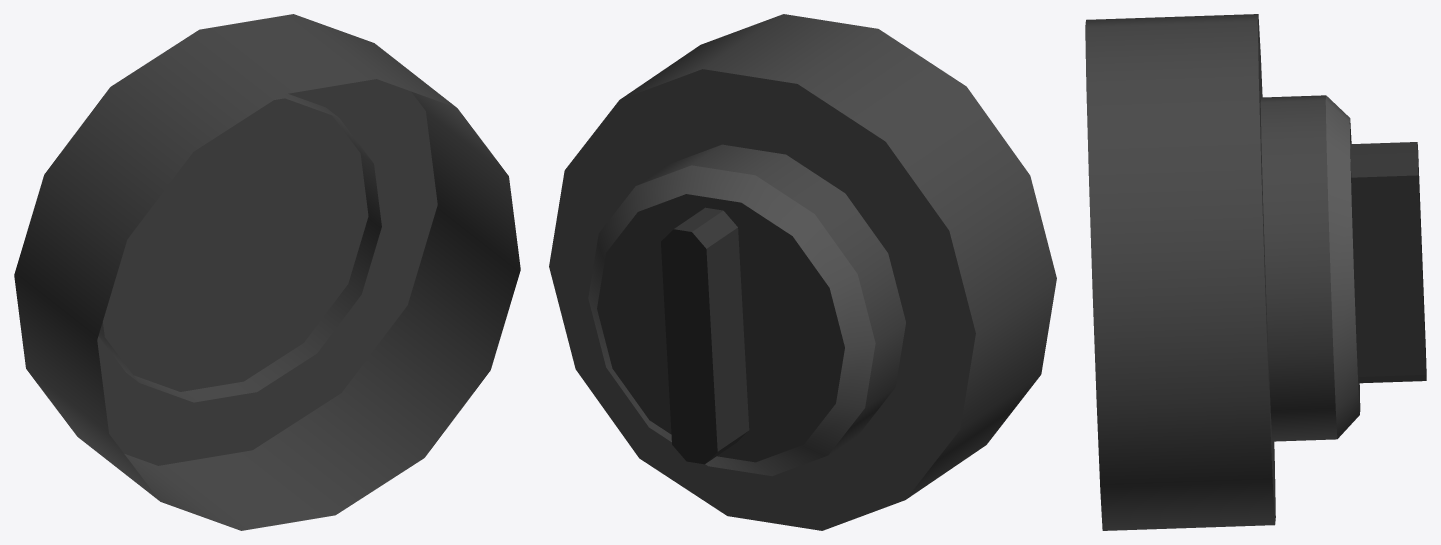
File: Stove Dial.fbx
3 views of the same model, side by side, from view 1: azimuth 30°, elevation 25°; view 2: azimuth 150°, elevation 25°; view 3: azimuth 270°, elevation 25° (orthographic). The views are drawn at different scales.
Visible parts, largest first — view 1: Burner Dial; view 2: Burner Dial; view 3: Burner Dial.
Boxes of the visible parts, x1,y1,x2,y2 form: Burner Dial: (14, 14, 520, 530); Burner Dial: (549, 14, 1056, 530); Burner Dial: (1085, 14, 1426, 530).
Bounding box in the file's own units: 11.35 × 11.37 × 7.49.
